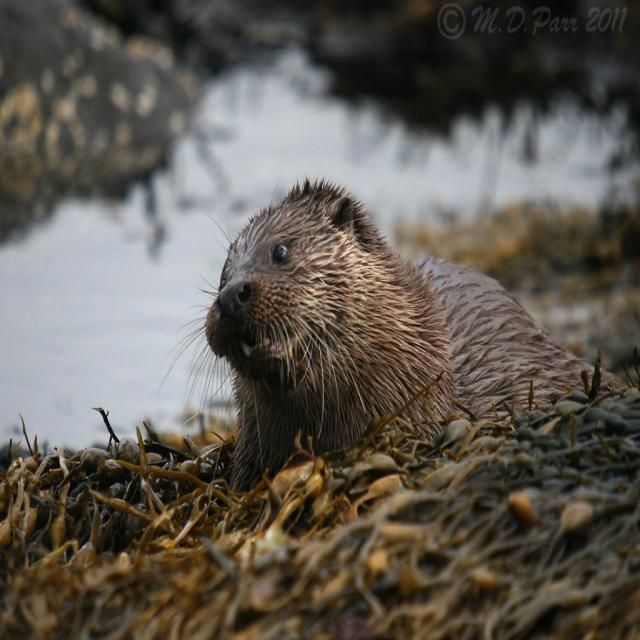otter: (208, 181, 556, 461)
